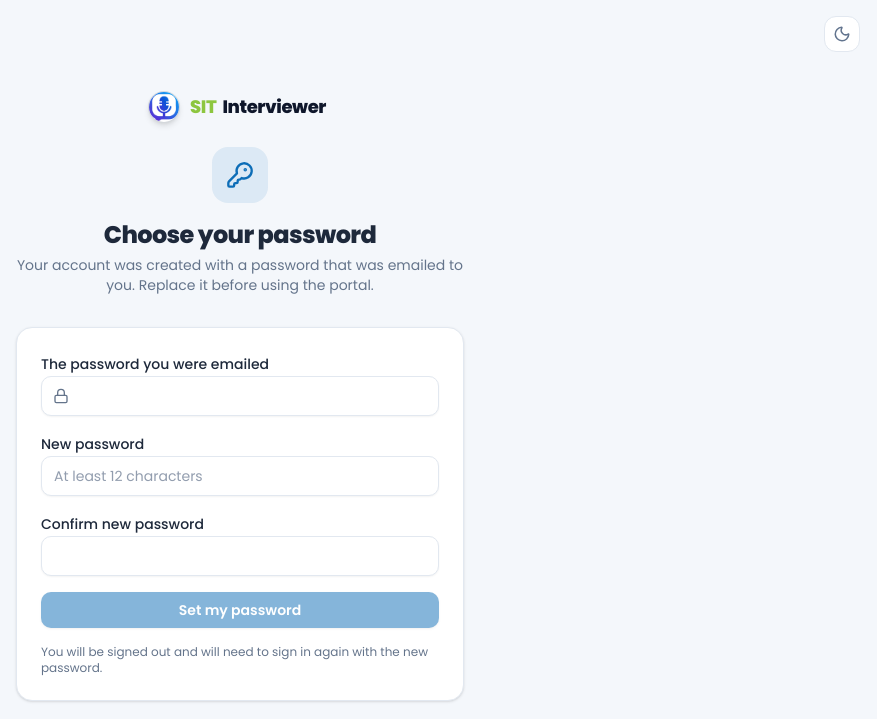
Test case: ChangePasswordPage › signs the person out afterwards, because the server revoked this session too
Type "emailed-one" into the password field labelled "The password you were emailed" at [240, 396], box 41,376 -> 439,416
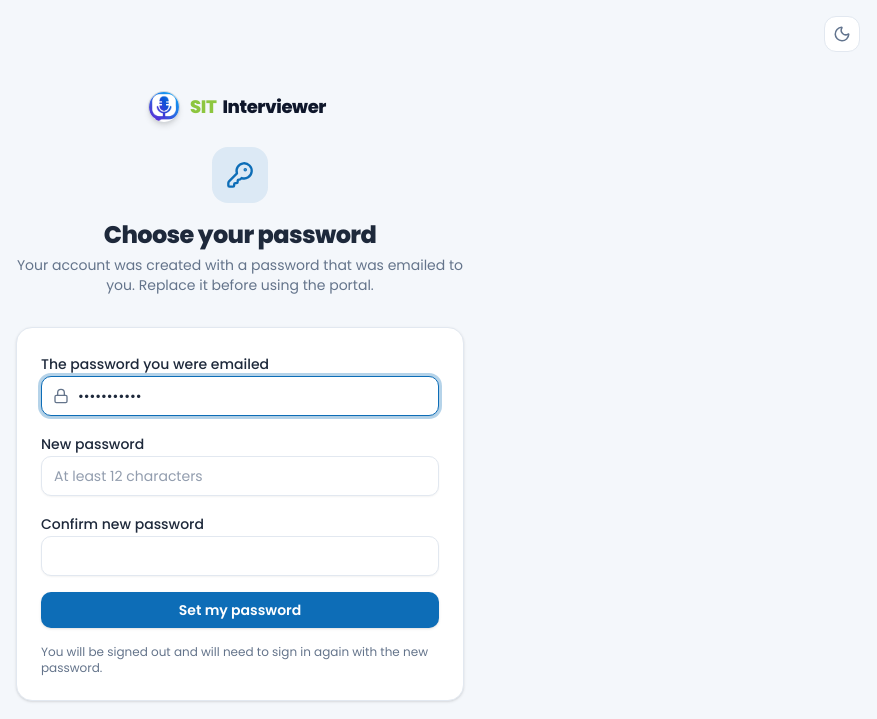
Type "a-long-enough-password" into the password field labelled "New password" at [240, 476], box 41,456 -> 439,496
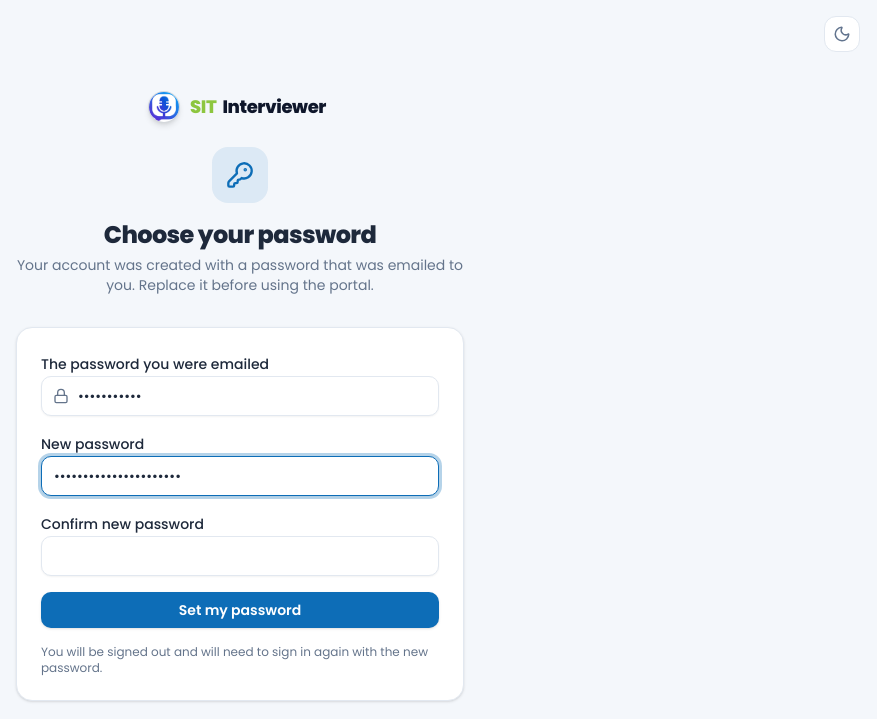
Type "a-long-enough-password" into the password field labelled "Confirm new password" at [240, 556], box 41,536 -> 439,576
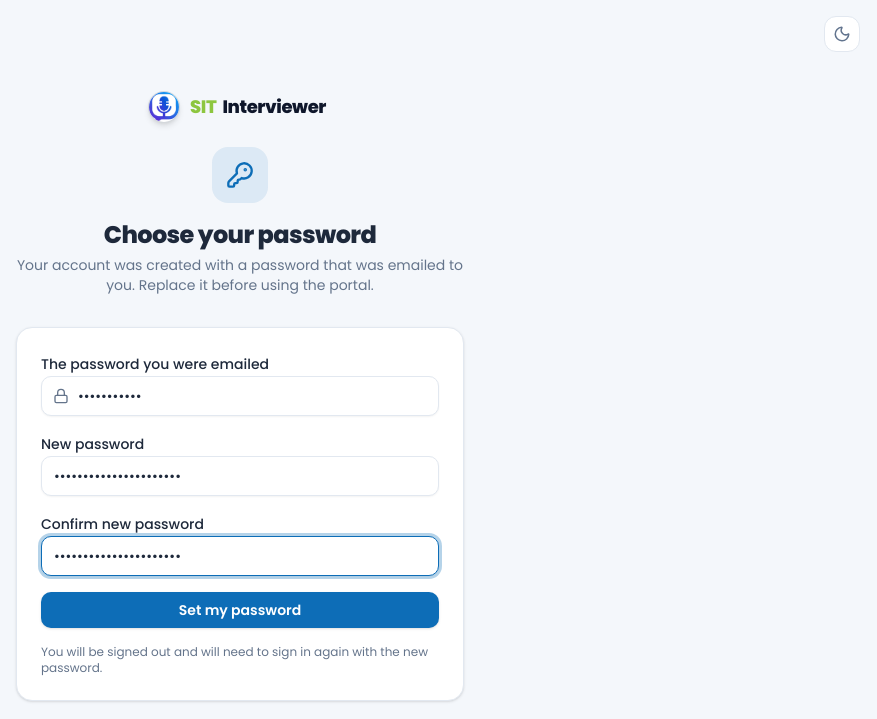
Click the button "Set my password" at [240, 610], box 41,592 -> 439,628
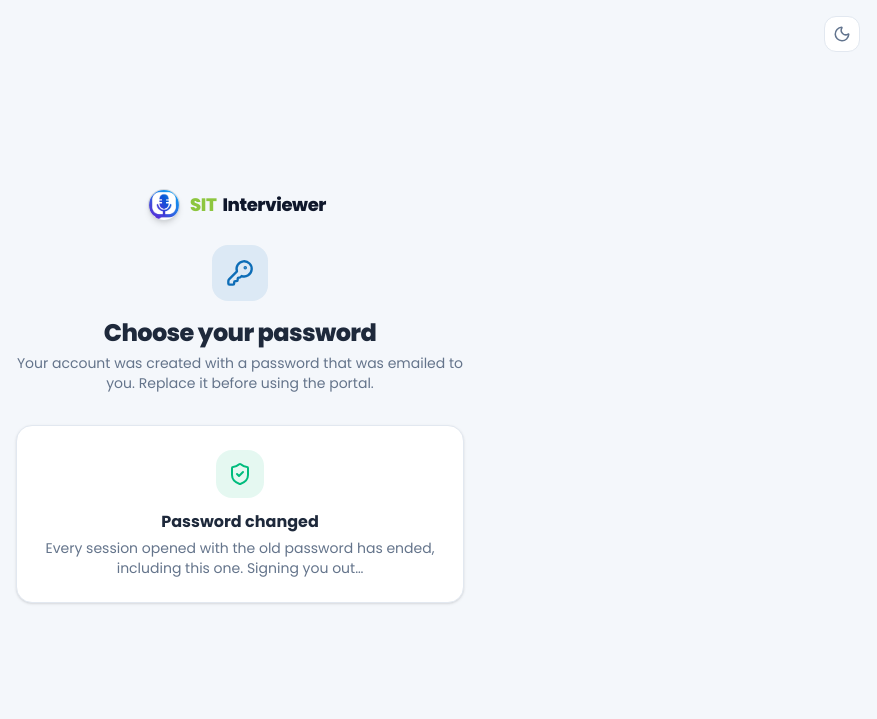
Expected: the heading "Password changed" is shown, 161,510 -> 319,533
Expected: the text "Every session opened with the old password has ended" is shown, 46,538 -> 434,578
